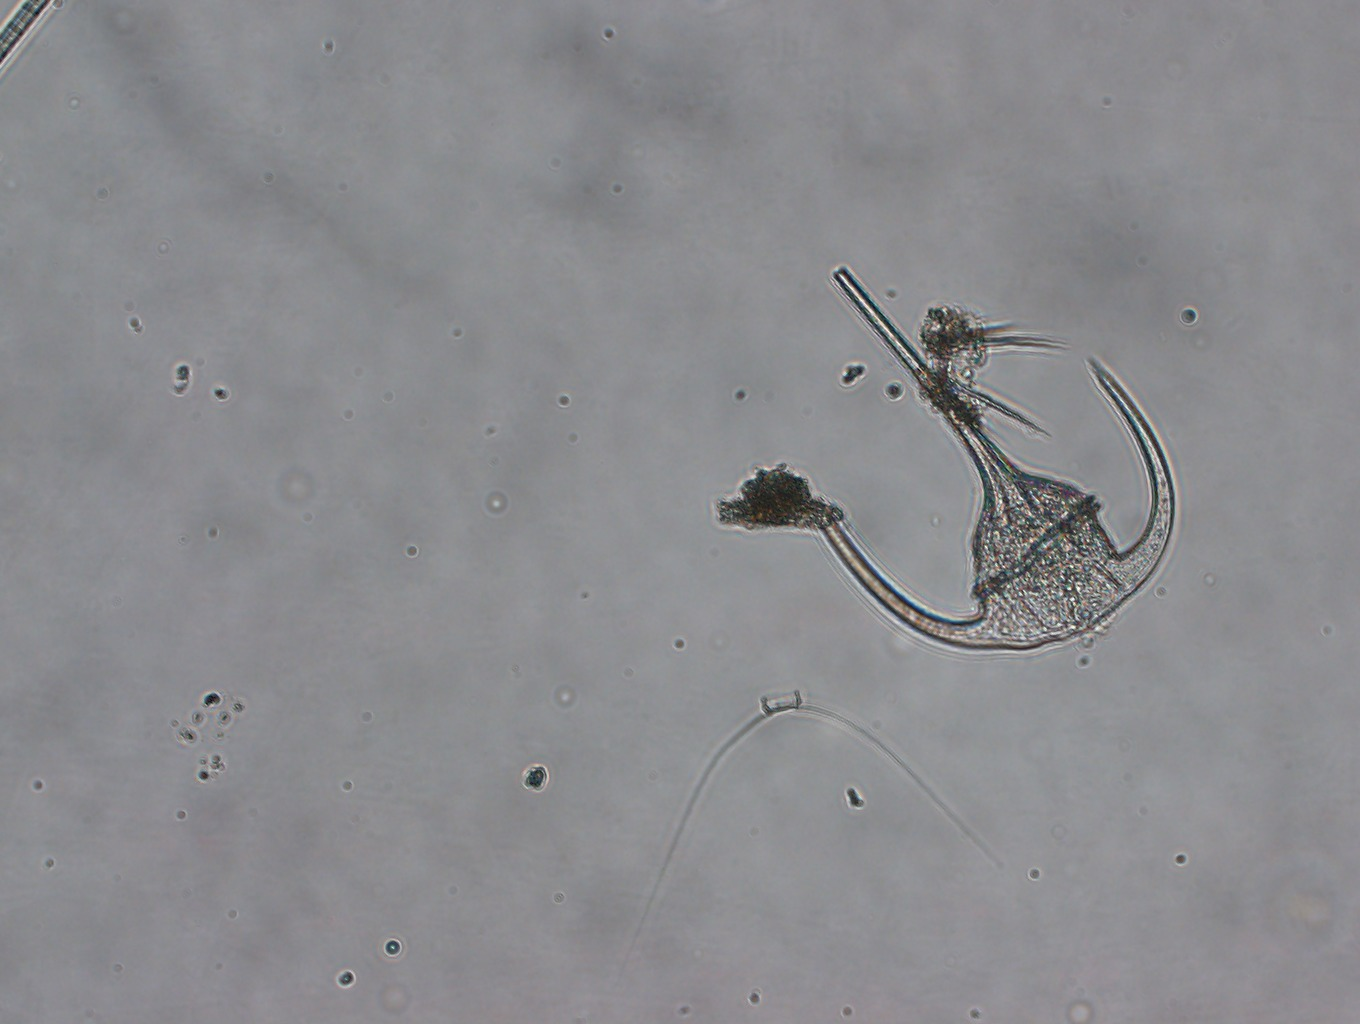ceratium tripos: (814, 266, 1178, 657)
chaetoceros: (618, 687, 1005, 982)
